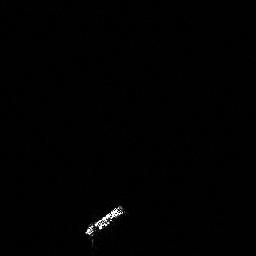ship: (80, 200, 128, 241)
